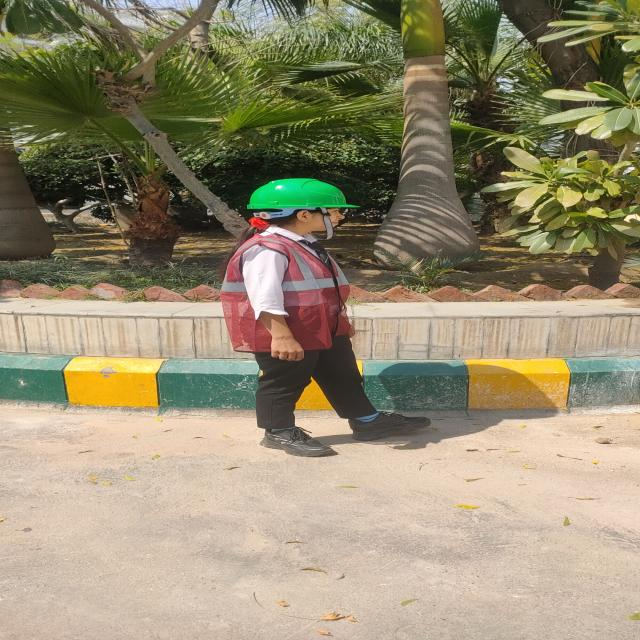safe: (221, 178, 400, 456)
